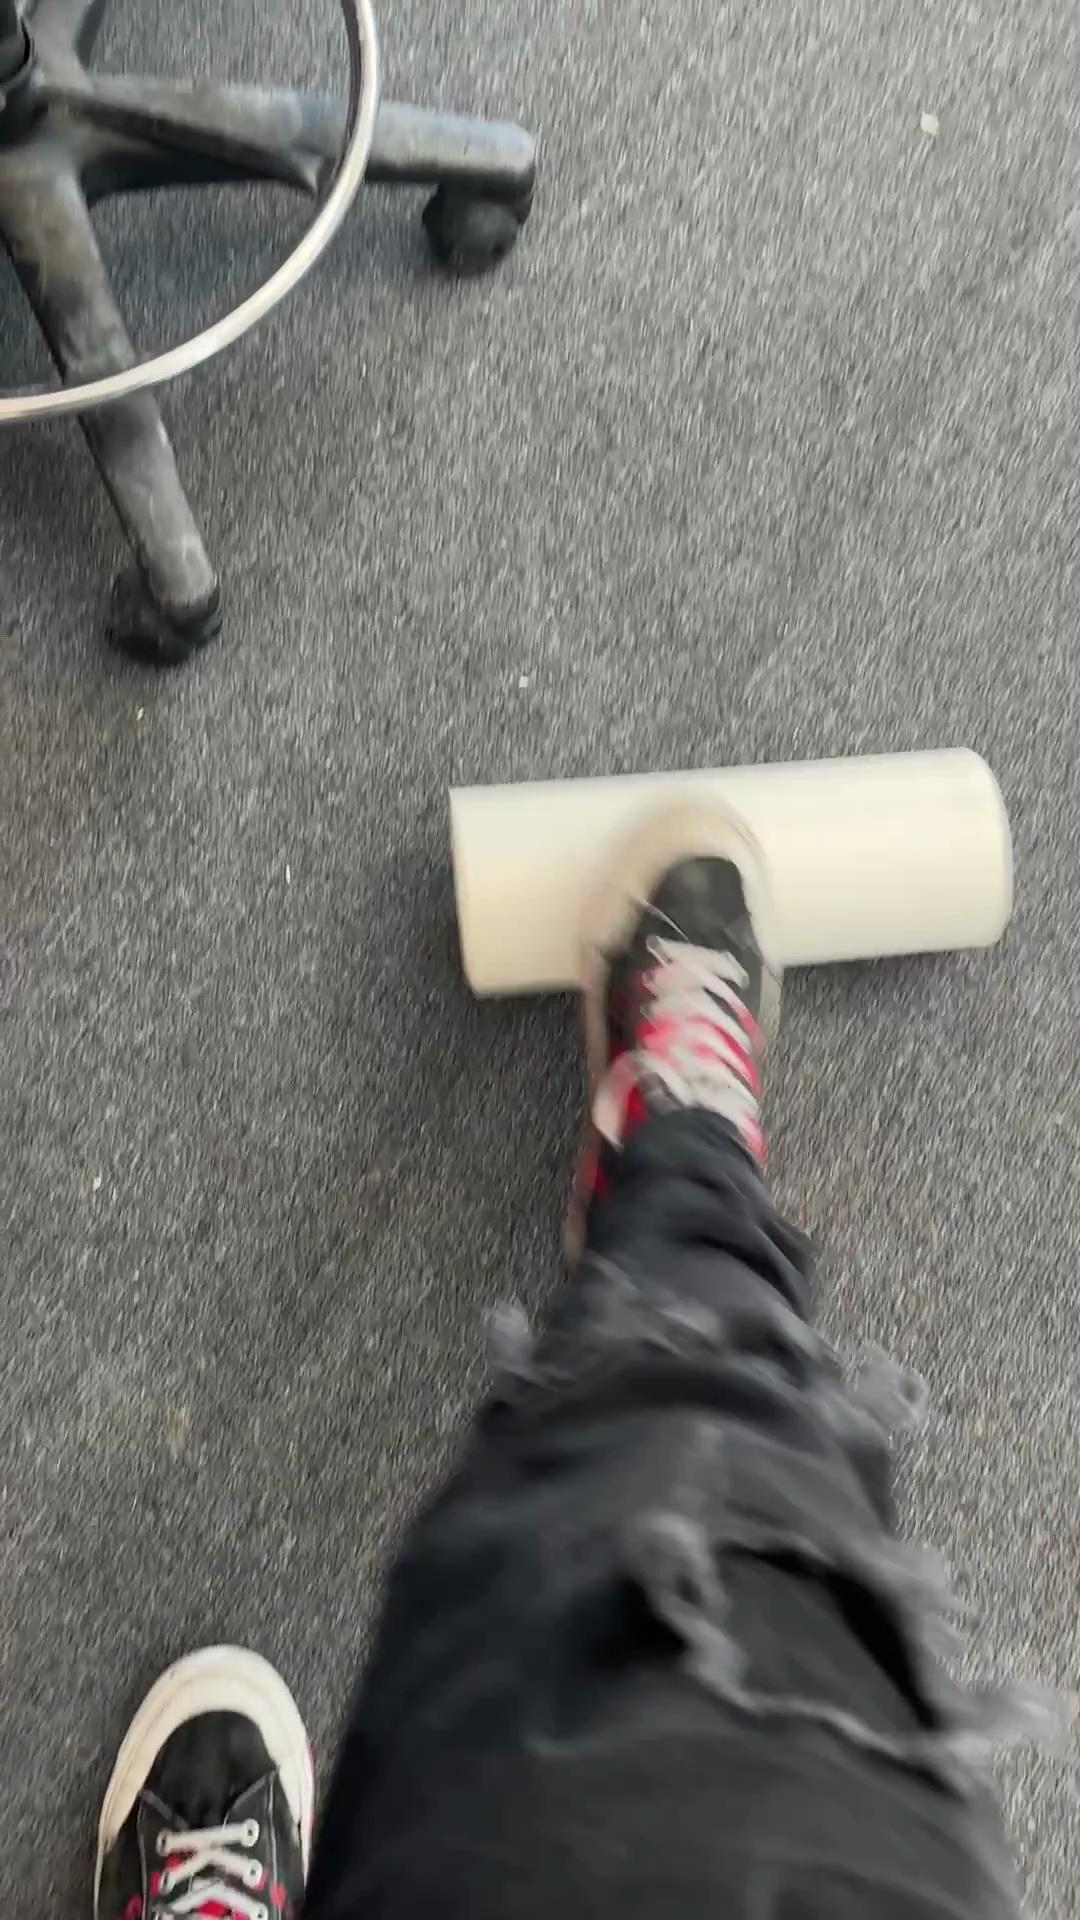CORAL: (444, 742, 1015, 1002)
